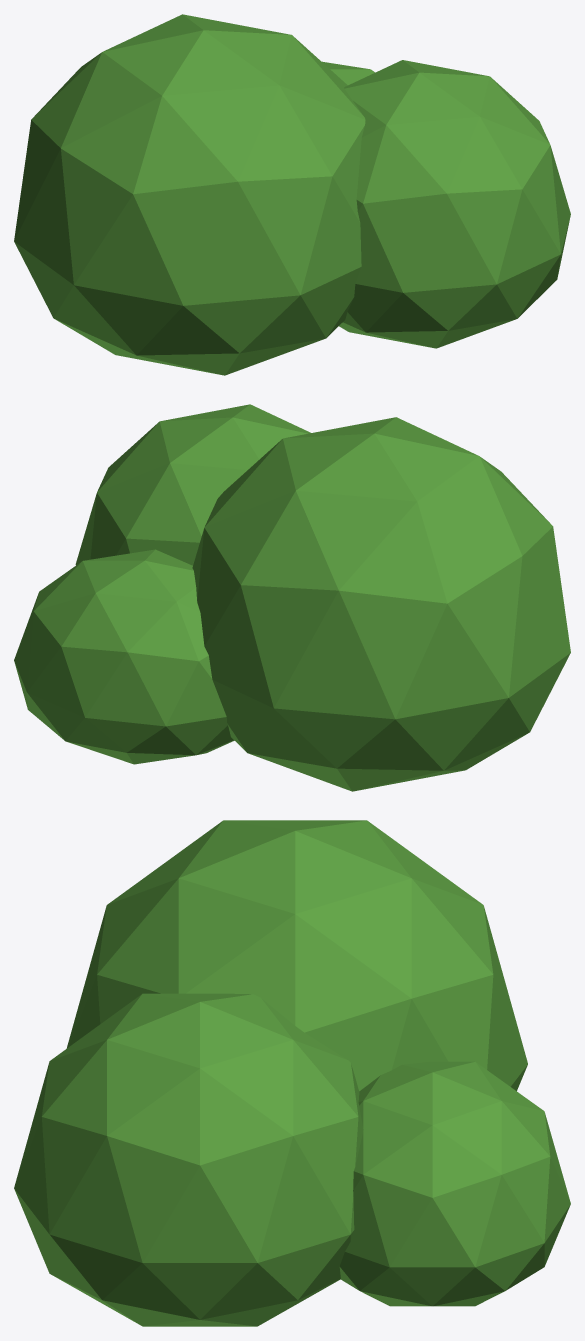
Rendered from bush2.fbx.
3 renders of one model, top to bottom at view 1: azimuth 30°, elevation 25°; view 2: azimuth 150°, elevation 25°; view 3: azimuth 270°, elevation 25°, orthographic. The views are drawn at different scales.
Visible parts, largest first — view 1: Icosphere, Icosphere.001, Icosphere.002; view 2: Icosphere, Icosphere.002, Icosphere.001; view 3: Icosphere.001, Icosphere, Icosphere.002.
Boxes of the visible parts, box(x1,y1,x2,y2) form: Icosphere: box(14, 14, 365, 375); Icosphere.001: box(339, 60, 570, 348); Icosphere.002: box(322, 61, 374, 85); Icosphere: box(192, 417, 570, 791); Icosphere.002: box(14, 549, 234, 764); Icosphere.001: box(75, 404, 310, 565); Icosphere.001: box(14, 993, 363, 1326); Icosphere: box(66, 820, 527, 1091); Icosphere.002: box(339, 1061, 570, 1306).
Size of the model in its own units: 469 by 312 by 406.
